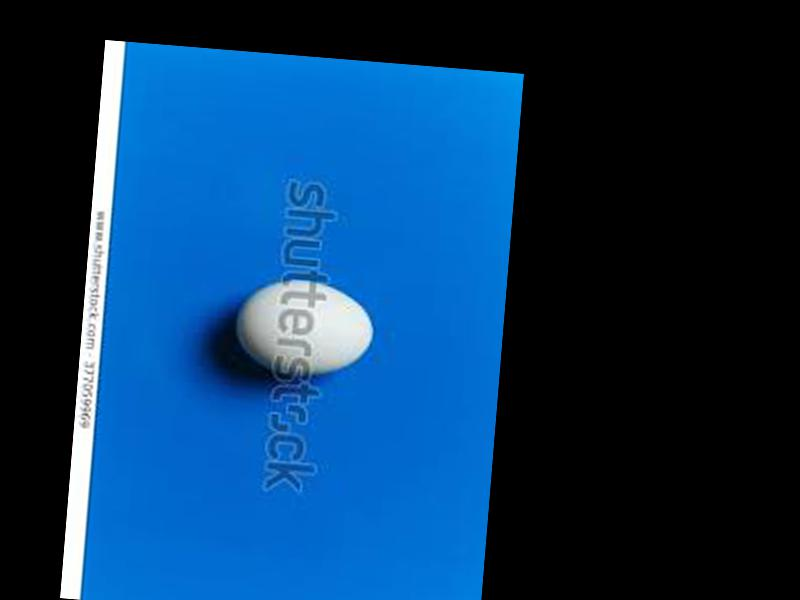Eggs: (232, 277, 380, 380)
